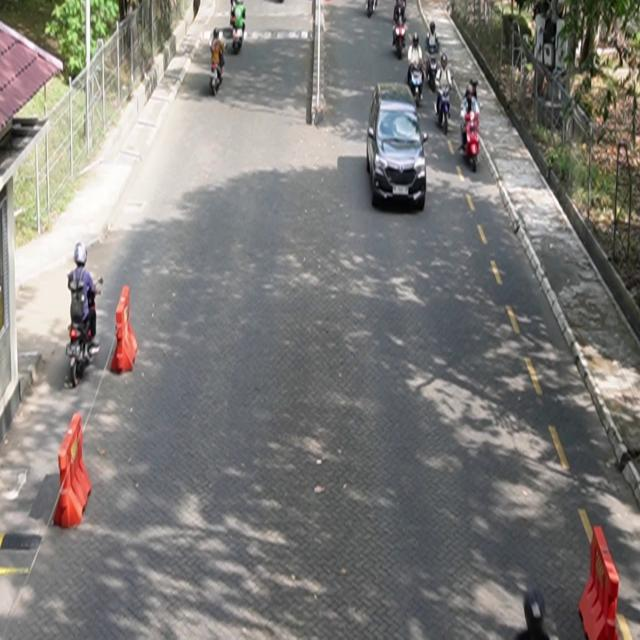car: (367, 83, 429, 212)
